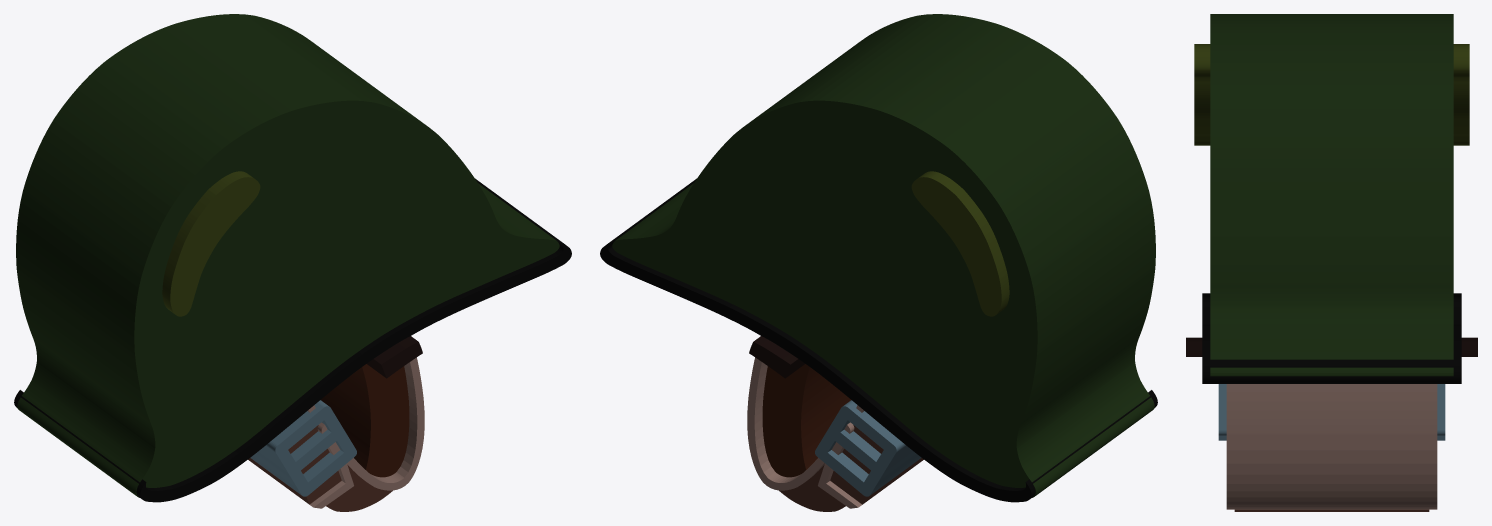
The picture shows the model from 3 angles, left to right: view 1: azimuth 30°, elevation 25°; view 2: azimuth 150°, elevation 25°; view 3: azimuth 270°, elevation 25°; orthographic projection. The views are drawn at different scales.
Parts seen in each view (by area): view 1: U+1FA96_layer05_obj00, U+1FA96_layer06_obj00, U+1FA96_layer01_obj01, U+1FA96_layer07_obj00, U+1FA96_layer04_obj00, U+1FA96_layer03_obj03, U+1FA96_layer02_obj01, U+1FA96_layer08_obj00, U+1FA96_layer03_obj02; view 2: U+1FA96_layer05_obj00, U+1FA96_layer06_obj00, U+1FA96_layer01_obj01, U+1FA96_layer07_obj00, U+1FA96_layer04_obj00, U+1FA96_layer03_obj03, U+1FA96_layer02_obj01, U+1FA96_layer08_obj00, U+1FA96_layer03_obj02; view 3: U+1FA96_layer05_obj00, U+1FA96_layer03_obj03, U+1FA96_layer06_obj00, U+1FA96_layer07_obj00, U+1FA96_layer04_obj00, U+1FA96_layer08_obj00, U+1FA96_layer02_obj01.
Part boxes in pixels (bbox=[...]): U+1FA96_layer05_obj00: bbox=[16, 14, 563, 497]; U+1FA96_layer06_obj00: bbox=[14, 179, 571, 502]; U+1FA96_layer01_obj01: bbox=[321, 364, 409, 477]; U+1FA96_layer07_obj00: bbox=[162, 171, 260, 316]; U+1FA96_layer04_obj00: bbox=[250, 400, 356, 496]; U+1FA96_layer03_obj03: bbox=[326, 357, 424, 490]; U+1FA96_layer02_obj01: bbox=[301, 450, 392, 511]; U+1FA96_layer08_obj00: bbox=[366, 336, 422, 378]; U+1FA96_layer03_obj02: bbox=[310, 463, 353, 508]; U+1FA96_layer05_obj00: bbox=[608, 14, 1155, 497]; U+1FA96_layer06_obj00: bbox=[600, 179, 1157, 502]; U+1FA96_layer01_obj01: bbox=[762, 364, 850, 477]; U+1FA96_layer07_obj00: bbox=[911, 171, 1009, 316]; U+1FA96_layer04_obj00: bbox=[815, 400, 921, 496]; U+1FA96_layer03_obj03: bbox=[747, 357, 844, 490]; U+1FA96_layer02_obj01: bbox=[779, 450, 870, 511]; U+1FA96_layer08_obj00: bbox=[749, 336, 805, 378]; U+1FA96_layer03_obj02: bbox=[818, 463, 861, 508]; U+1FA96_layer05_obj00: bbox=[1210, 14, 1453, 376]; U+1FA96_layer03_obj03: bbox=[1226, 384, 1437, 509]; U+1FA96_layer06_obj00: bbox=[1202, 293, 1461, 383]; U+1FA96_layer07_obj00: bbox=[1194, 44, 1469, 145]; U+1FA96_layer04_obj00: bbox=[1218, 384, 1445, 440]; U+1FA96_layer08_obj00: bbox=[1186, 337, 1477, 356]; U+1FA96_layer02_obj01: bbox=[1234, 509, 1429, 511].
Size of the model in its own units: 0.3173 by 0.2991 by 0.18.
